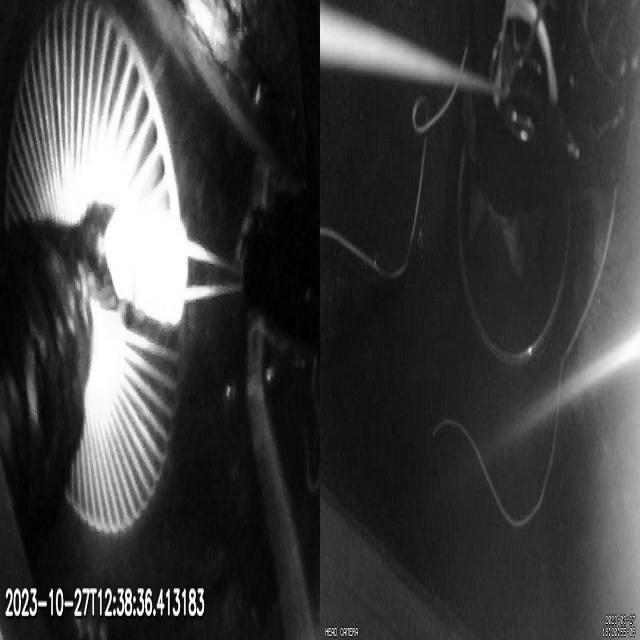head: (112, 200, 189, 327)
